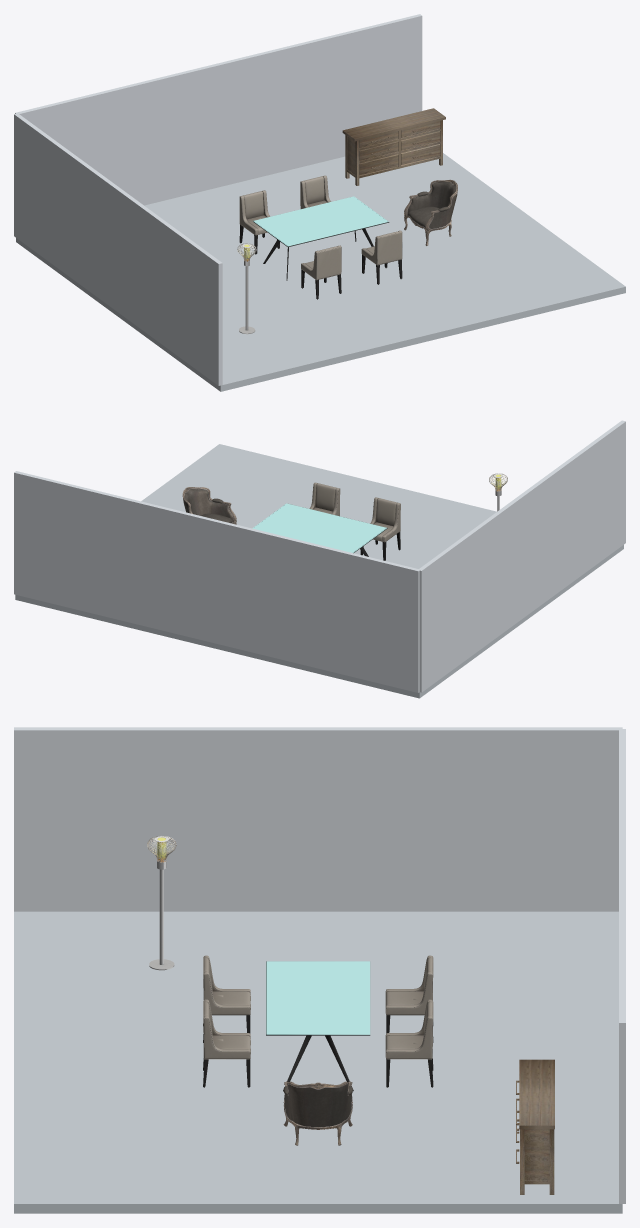
The model's file is stage3.glb.
The picture shows the model from 3 angles, top to bottom: view 1: azimuth 30°, elevation 25°; view 2: azimuth 150°, elevation 25°; view 3: azimuth 270°, elevation 25°; orthographic projection. The views are drawn at different scales.
Visible parts, largest first — view 1: Floor, wall_back, wall_left, raw_model.005, raw_model, raw_model.006, raw_model.001, raw_model.002, raw_model.004, raw_model.003; view 2: wall_back, wall_left, Floor, raw_model, raw_model.006, raw_model.002, raw_model.001; view 3: Floor, wall_left, raw_model, raw_model.005, wall_back, raw_model.006, raw_model.001, raw_model.003, raw_model.002, raw_model.004, solid_003.
Boxes of the visible parts, x1,y1,x2,y2 form: Floor: (16, 153, 625, 391); wall_back: (15, 14, 422, 205); wall_left: (14, 113, 222, 385); raw_model.005: (342, 108, 445, 185); raw_model: (253, 196, 389, 280); raw_model.006: (404, 179, 457, 245); raw_model.001: (361, 230, 402, 284); raw_model.002: (301, 245, 341, 299); raw_model.004: (239, 190, 279, 254); raw_model.003: (300, 175, 330, 208); wall_back: (14, 471, 419, 692); wall_left: (418, 420, 625, 692); Floor: (15, 444, 623, 698); raw_model: (252, 503, 387, 556); raw_model.006: (182, 487, 236, 524); raw_model.002: (360, 497, 400, 560); raw_model.001: (309, 482, 340, 516); Floor: (14, 911, 622, 1213); wall_left: (14, 727, 622, 911); raw_model: (266, 961, 370, 1091); raw_model.005: (516, 1059, 554, 1194); wall_back: (619, 729, 625, 1203); raw_model.006: (283, 1081, 352, 1145); raw_model.001: (203, 999, 250, 1087); raw_model.003: (385, 999, 433, 1087); raw_model.002: (203, 955, 250, 1042); raw_model.004: (385, 955, 433, 1042); solid_003: (149, 861, 174, 970).
Size of the model in its own units: 8.04 by 2.42 by 7.04.
Materials: 10 (8 with a texture image).
